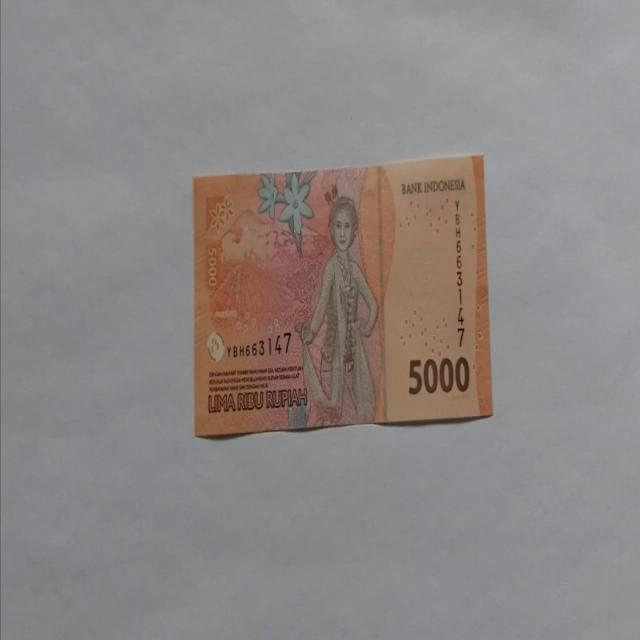lima ribu rupiah: (193, 152, 493, 438), (294, 194, 379, 426)
